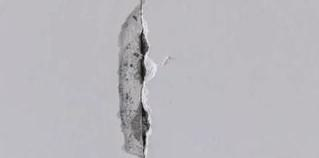Crack: (138, 1, 149, 158)
Spalling: (118, 3, 156, 158)
